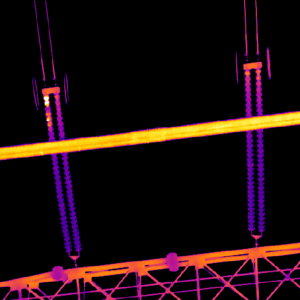insulator: (40, 90, 80, 251), (243, 62, 265, 233)
